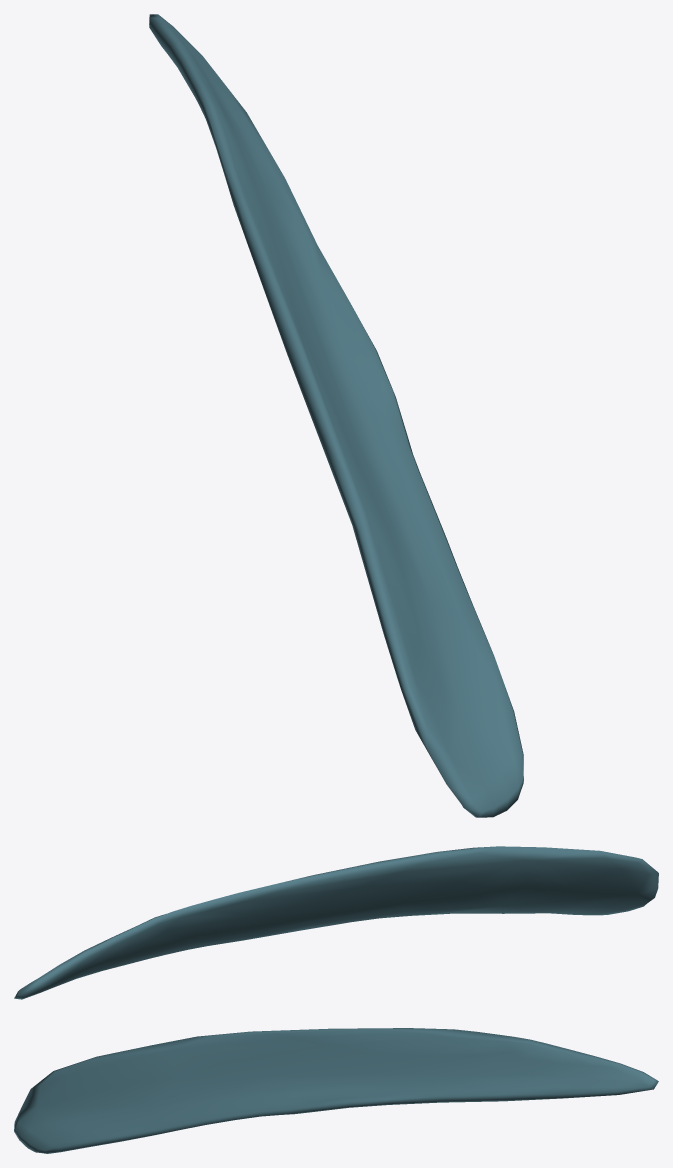
The model's file is Opponens_digiti_minimi_foot_5th_metatarsal_right.glb.
The picture shows the model from 3 angles, top to bottom: view 1: azimuth 30°, elevation 25°; view 2: azimuth 150°, elevation 25°; view 3: azimuth 270°, elevation 25°; orthographic projection. The views are drawn at different scales.
Parts seen in each view (by area): view 1: Opponens_digiti_minimi_of_foot_on_5th_metatarsal_bone.r_Gene; view 2: Opponens_digiti_minimi_of_foot_on_5th_metatarsal_bone.r_Gene; view 3: Opponens_digiti_minimi_of_foot_on_5th_metatarsal_bone.r_Gene.
Boxes of the visible parts, left/top/right/bottom form: Opponens_digiti_minimi_of_foot_on_5th_metatarsal_bone.r_Gene: left=149, top=14, right=523, bottom=817; Opponens_digiti_minimi_of_foot_on_5th_metatarsal_bone.r_Gene: left=14, top=846, right=658, bottom=999; Opponens_digiti_minimi_of_foot_on_5th_metatarsal_bone.r_Gene: left=14, top=1028, right=658, bottom=1153.
Bounding box in the file's own units: 0.0102 × 0.0084 × 0.0314.
